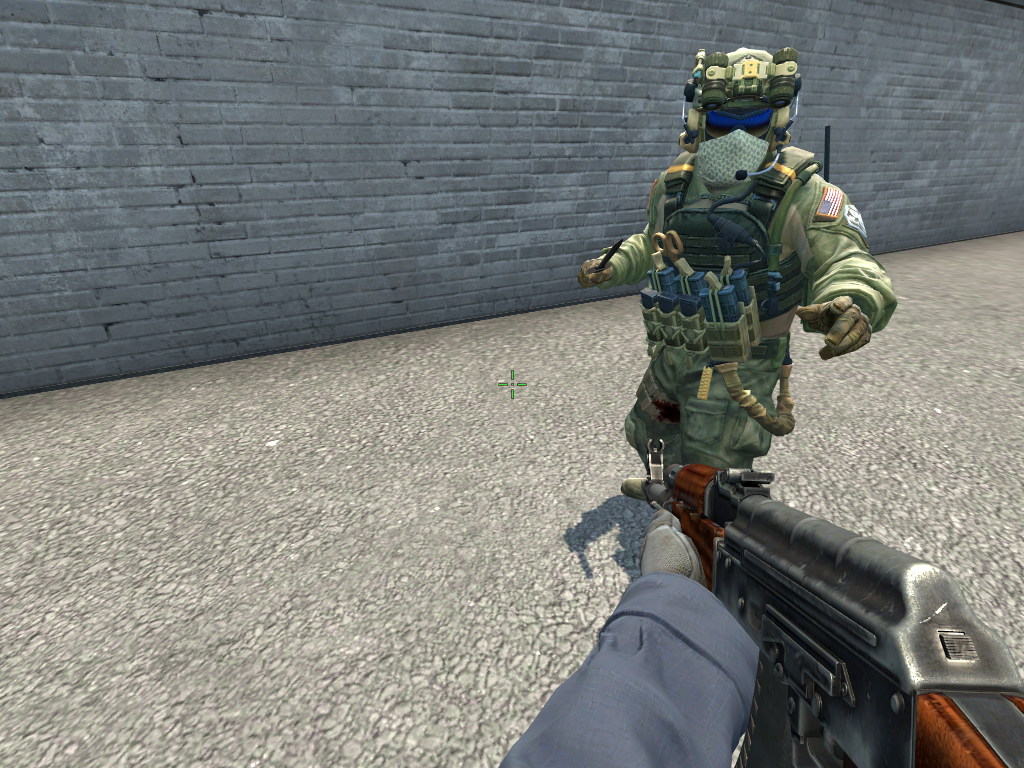ct head: (677, 44, 804, 183)
